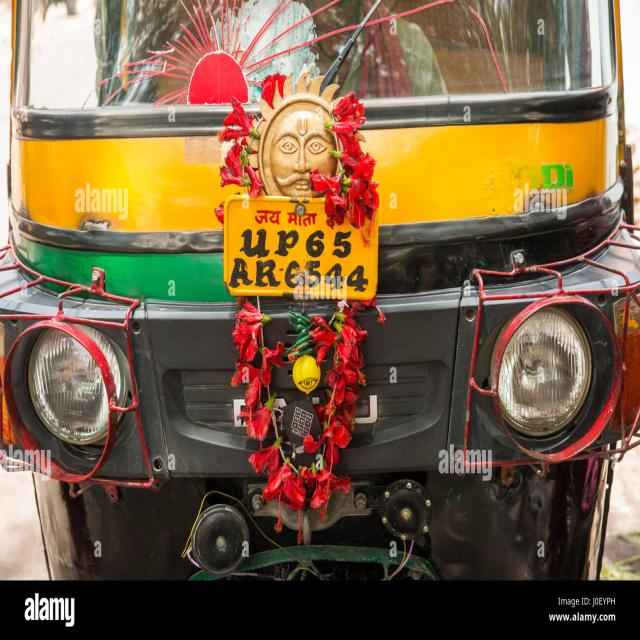plate: (220, 190, 382, 308)
